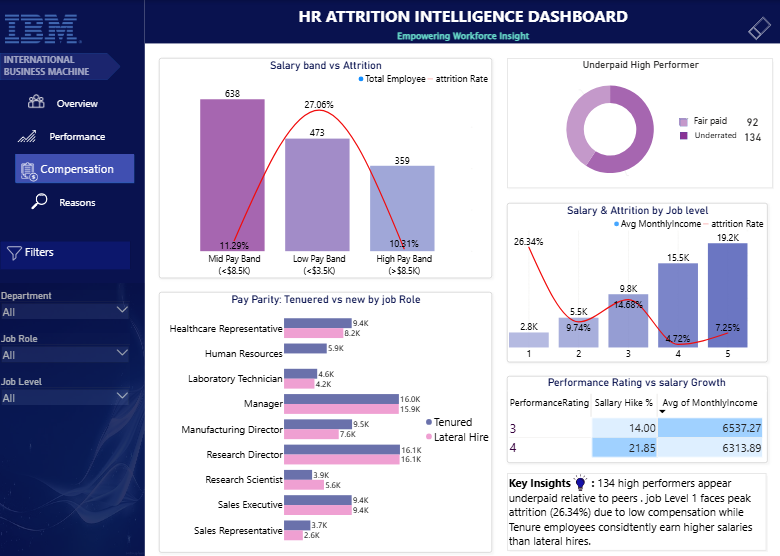

The page's visual inventory and layout, read from the dashboard file:
{"tool":"powerbi","page":{"name":"  Compensation","canvas":[5200,3700],"ordinal":2},"visuals":[{"type":"textbox","box":[10,0,280,280],"z":0},{"type":"textbox","box":[0,-40,960,3840],"z":1000},{"type":"textbox","box":[960,0,4224,288],"z":2000},{"type":"image","box":[0,0,576,384],"z":3000},{"type":"textbox","box":[18,350,672,288],"z":4000},{"type":"pageNavigator","box":[96,576,805,864],"z":5000},{"type":"image","box":[0,480,480,384],"z":6000},{"type":"textbox","box":[0,1600,864,192],"z":7000},{"type":"image","box":[0,1619,192,120],"z":8000},{"type":"slicer","title":"Department","fields":{"Values":["WA_Fn-UseC_-HR-Employee-Attrition.Department"]},"box":[0,1920,864,192],"z":9000},{"type":"slicer","title":"Job Role","fields":{"Values":["WA_Fn-UseC_-HR-Employee-Attrition.JobRole"]},"box":[0,2208,864,288],"z":10000},{"type":"slicer","title":"Job Level","fields":{"Values":["WA_Fn-UseC_-HR-Employee-Attrition.JobLevel"]},"box":[0,2496,864,192],"z":11000},{"type":"shape","box":[0,350,800,180],"z":12000},{"type":"actionButton","box":[4896,96,288,192],"z":13000},{"type":"image","box":[125,1056,140,170],"z":14000},{"type":"image","box":[35,840,288,120],"z":15000},{"type":"image","box":[200,1282,123,110],"z":16000},{"type":"donutChart","title":"Underpaid High Performer","fields":{"Category":["Underrated_high_performer.Salary_status"],"Series":["Underrated_high_performer.Salary_status"],"Y":["CountNonNull(Underrated_high_performer.EmployeeNumber)"]},"box":[3360,384,1763,864],"z":17000},{"type":"textbox","box":[4512,768,576,288],"z":18000},{"type":"shape","box":[4500,780,50,50],"z":19000},{"type":"shape","box":[4510,875,50,50],"z":20000},{"type":"shape","box":[4510,790,50,50],"z":21000},{"type":"card","fields":{"Values":["Count(Underrated_high_performer.EmployeeNumber)"]},"box":[4896,750,192,96],"z":22000},{"type":"card","fields":{"Values":["Count(Underrated_high_performer.EmployeeNumber)"]},"box":[4896,850,192,96],"z":23000},{"type":"lineClusteredColumnComboChart","title":"Salary band vs Attrition","fields":{"Category":["WA_Fn-UseC_-HR-Employee-Attrition.Salary band "],"Y":["CountNonNull(WA_Fn-UseC_-HR-Employee-Attrition.EmployeeCount)"],"Y2":["All_factors_rate.attrition Rate"]},"box":[1056,384,2208,1460],"z":24000},{"type":"lineStackedColumnComboChart","title":"Salary & Attrition by Job level","fields":{"Category":["WA_Fn-UseC_-HR-Employee-Attrition.JobLevel"],"Y":["Avg(WA_Fn-UseC_-HR-Employee-Attrition.MonthlyIncome)"],"Y2":["All_factors_rate.attrition Rate"]},"box":[3360,1344,1728,1056],"z":25000},{"type":"pivotTable","title":"Performance Rating  vs salary Growth","fields":{"Rows":["WA_Fn-UseC_-HR-Employee-Attrition.PerformanceRating"],"Values":["Avg(WA_Fn-UseC_-HR-Employee-Attrition.PercentSalaryHike)","Avg(WA_Fn-UseC_-HR-Employee-Attrition.MonthlyIncome)"]},"box":[3360,2496,1728,576],"z":26000},{"type":"clusteredBarChart","title":"Pay Parity: Tenuered vs new  by job Role","fields":{"Category":["Tenure vs lateral.JobRole"],"Y":["Avg(Tenure vs lateral.avg_income)"],"Series":["Tenure vs lateral.employee_type"]},"box":[1056,1934,2208,1728],"z":27000},{"type":"textbox","box":[3360,3138,1721,516],"z":28000},{"type":"image","box":[3794,3100,111,193],"z":29000},{"type":"image","box":[0,1876,960,1824],"z":30000}]}

Visuals, with their boxes in screenshot pixels (x1, y1, x2, y2), scaled from the page's 5200x3700 canvas onto the 780x556 screenshot:
textbox: [2, 0, 44, 42]
textbox: [0, 0, 144, 555]
textbox: [144, 0, 778, 43]
image: [0, 0, 86, 58]
textbox: [3, 53, 104, 96]
pageNavigator: [14, 87, 135, 216]
image: [0, 72, 72, 130]
textbox: [0, 240, 130, 269]
image: [0, 243, 29, 261]
"Department" slicer: [0, 289, 130, 317]
"Job Role" slicer: [0, 332, 130, 375]
"Job Level" slicer: [0, 375, 130, 404]
shape: [0, 53, 120, 80]
actionButton: [734, 14, 778, 43]
image: [19, 159, 40, 184]
image: [5, 126, 48, 144]
image: [30, 193, 48, 209]
"Underpaid High Performer" donutChart: [504, 58, 768, 188]
textbox: [677, 115, 763, 159]
shape: [675, 117, 682, 125]
shape: [676, 131, 684, 139]
shape: [676, 119, 684, 126]
card - Count(Underrated_high_performer.EmployeeNumber): [734, 113, 763, 127]
card - Count(Underrated_high_performer.EmployeeNumber): [734, 128, 763, 142]
"Salary band vs Attrition" lineClusteredColumnComboChart: [158, 58, 490, 277]
"Salary & Attrition by Job level" lineStackedColumnComboChart: [504, 202, 763, 361]
"Performance Rating  vs salary Growth" pivotTable: [504, 375, 763, 462]
"Pay Parity: Tenuered vs new  by job Role" clusteredBarChart: [158, 291, 490, 550]
textbox: [504, 472, 762, 549]
image: [569, 466, 586, 495]
image: [0, 282, 144, 555]
